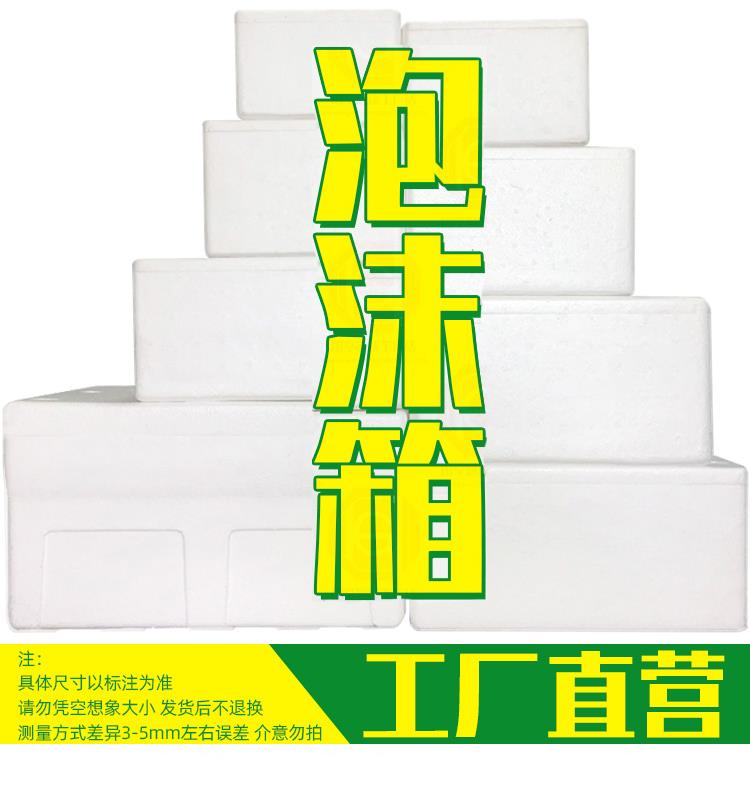泡沫箱: (5, 11, 746, 641)
